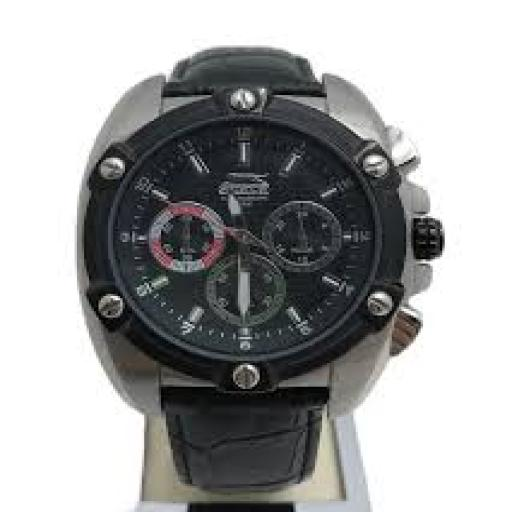KolSaati: (62, 36, 468, 512)
